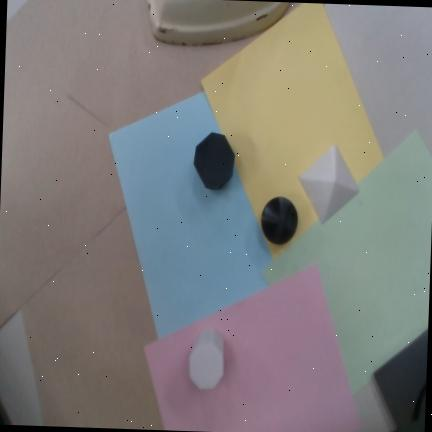Esfera: (261, 197, 298, 245)
Piramide: (298, 144, 360, 225)
Prisma_hexagonal: (193, 132, 235, 190), (189, 330, 224, 390)
